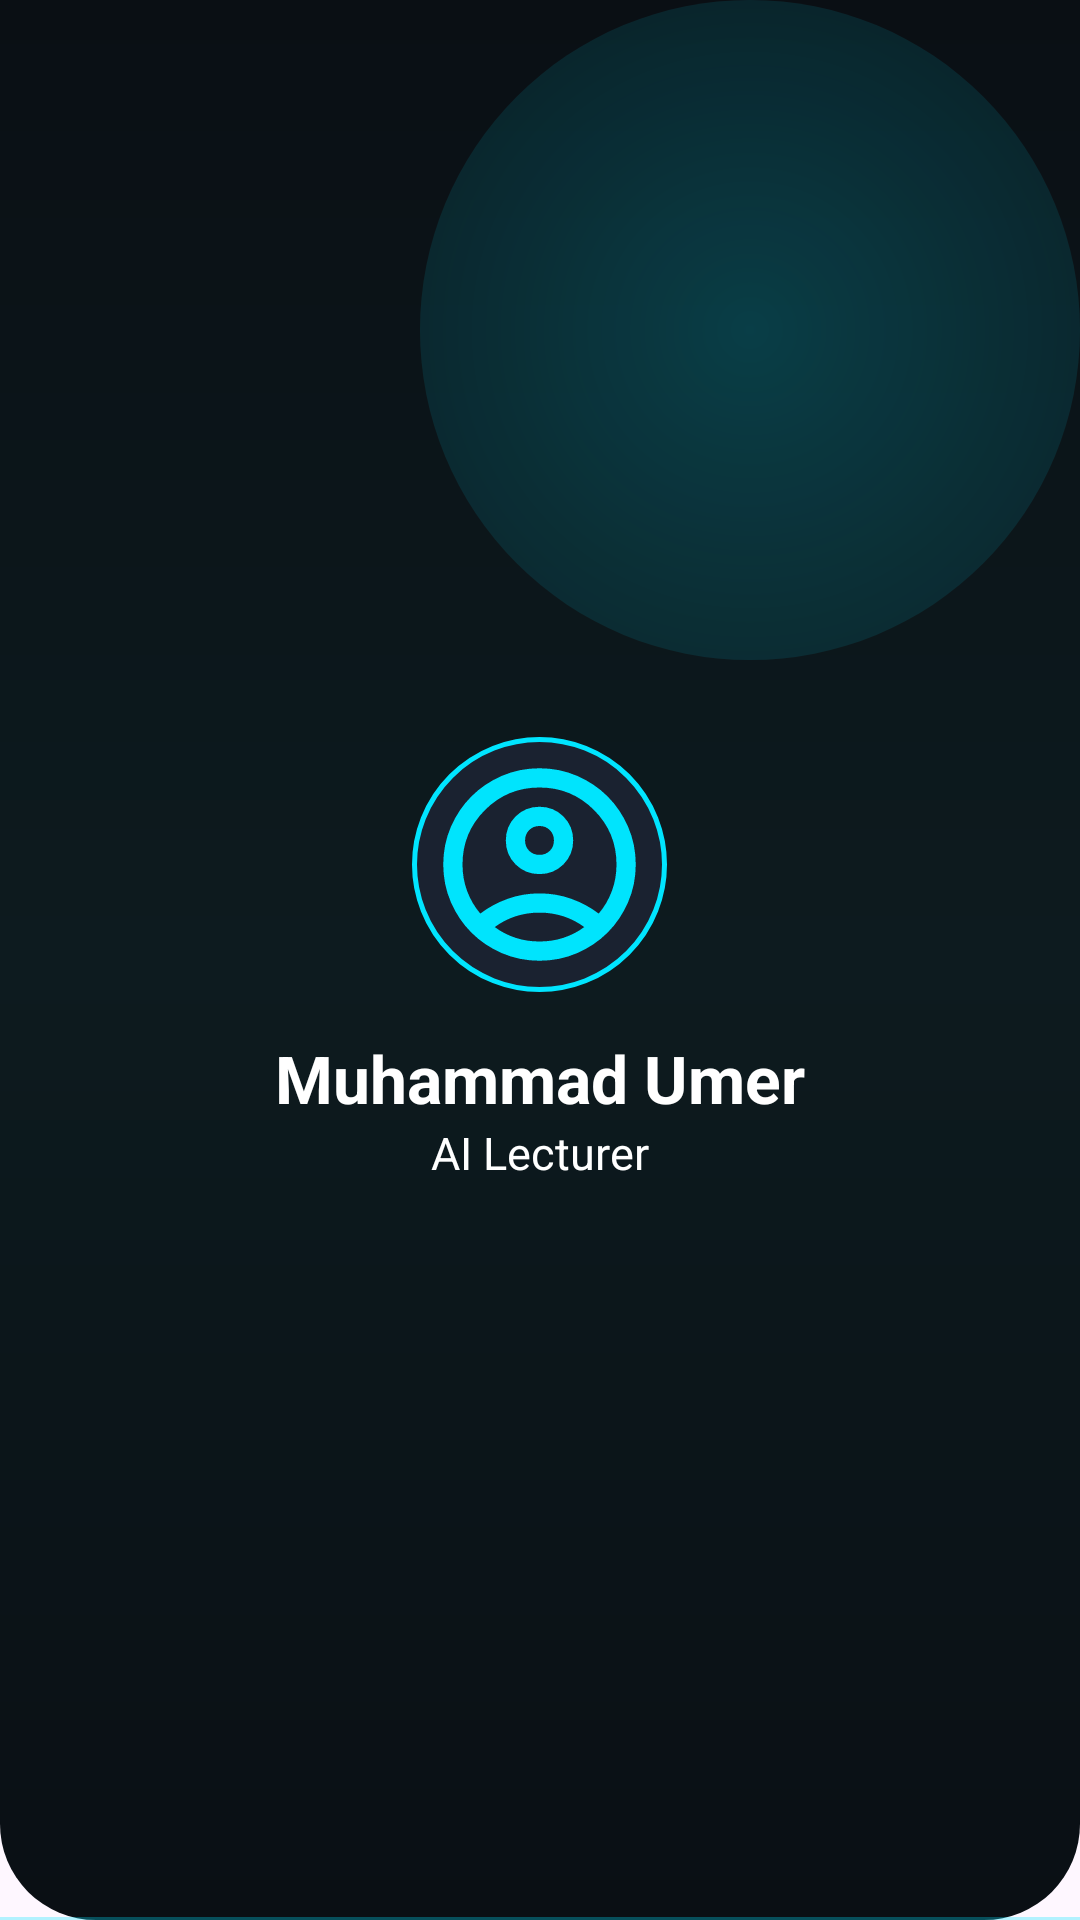

Icon bounding boxes for this 1080x1920 phone screenshot, format (x1, y1, x2, y2):
account circle: (412, 737, 667, 992)
